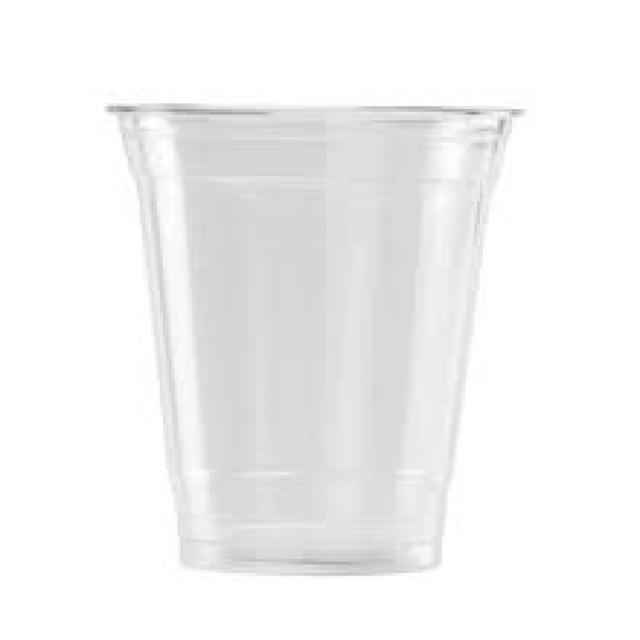cup: (88, 54, 541, 610)
